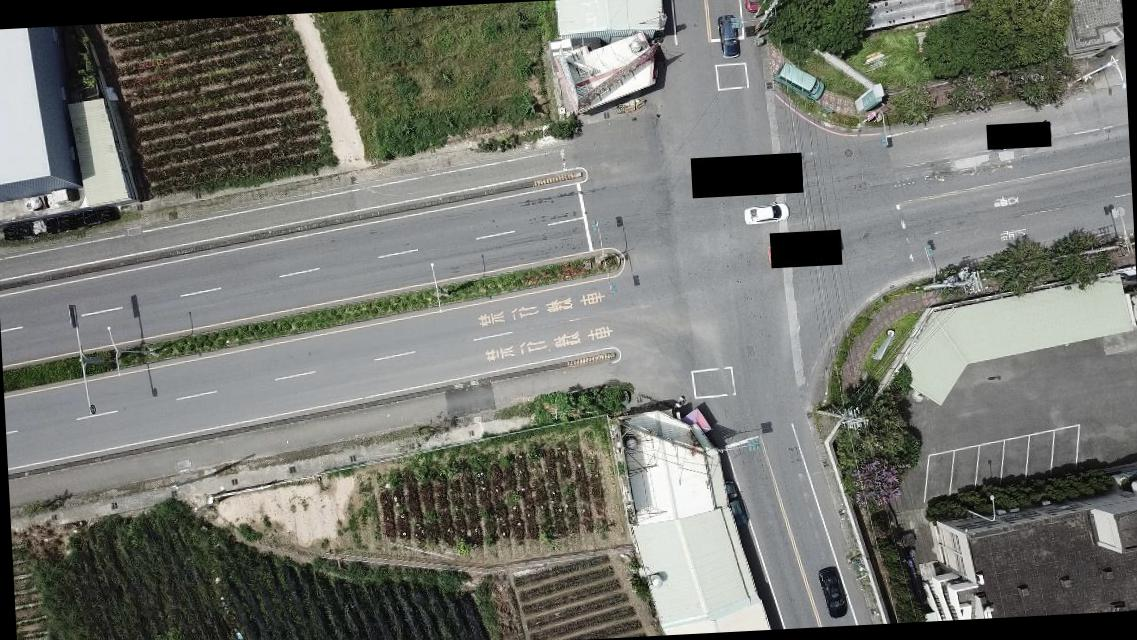vehicle: (771, 59, 827, 102), (717, 8, 742, 60), (739, 202, 793, 226), (724, 479, 746, 527), (744, 0, 765, 12)
